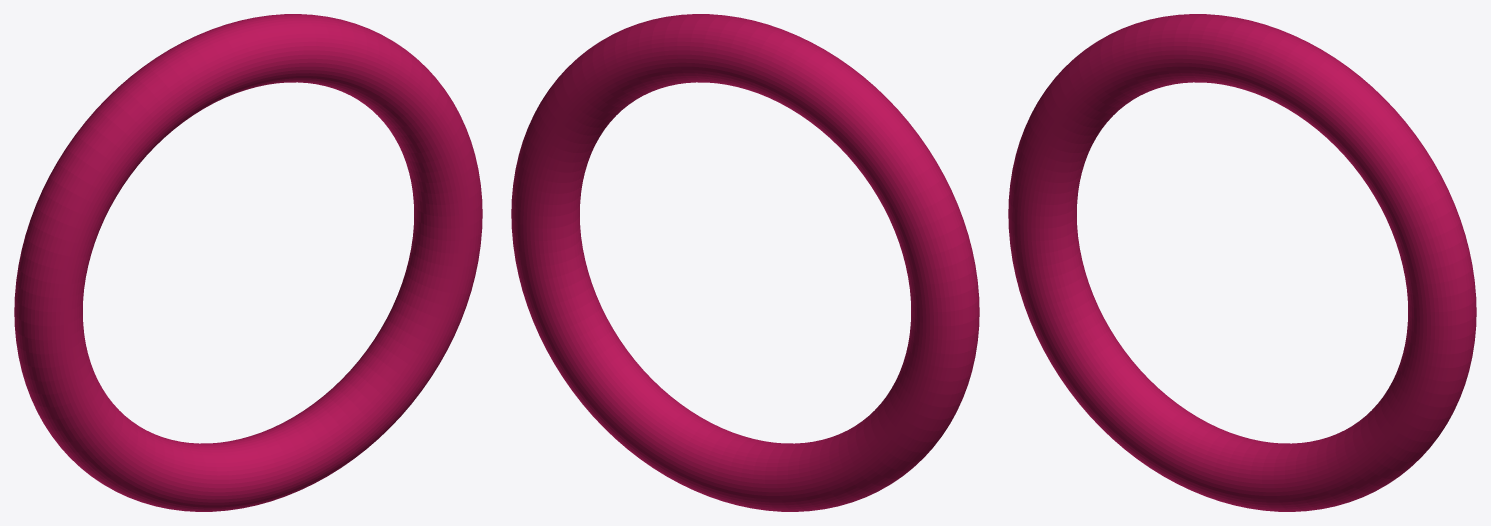
3 renders of one model, left to right at view 1: azimuth 30°, elevation 25°; view 2: azimuth 150°, elevation 25°; view 3: azimuth 330°, elevation 25°, orthographic.
Visible parts, largest first — view 1: world; view 2: world; view 3: world.
Part boxes in pixels (x1,y1,x2,y2): world: (14,14,482,511); world: (511,14,979,511); world: (1008,14,1476,511).
Bounding box in the file's own units: 23.73 × 23.73 × 3.06.
